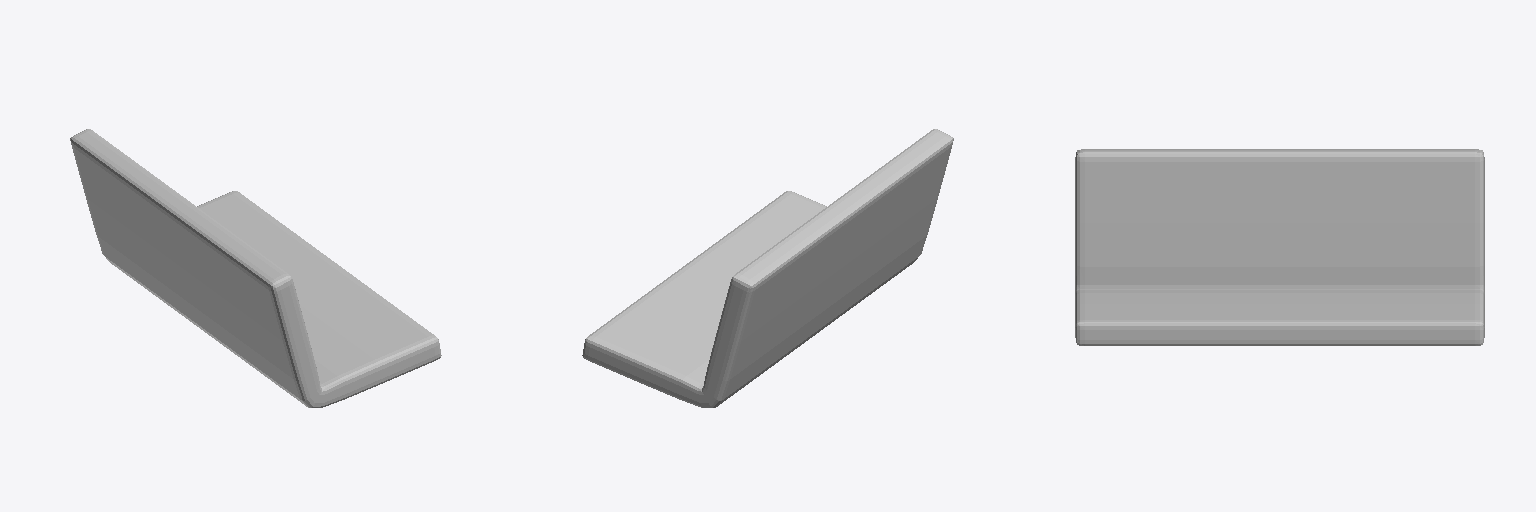
The model's file is housesp_111.obj.
3 renders of one model, left to right at view 1: azimuth 30°, elevation 25°; view 2: azimuth 150°, elevation 25°; view 3: azimuth 270°, elevation 25°, orthographic.
Size of the model in its own units: 61.98 by 48.87 by 129.